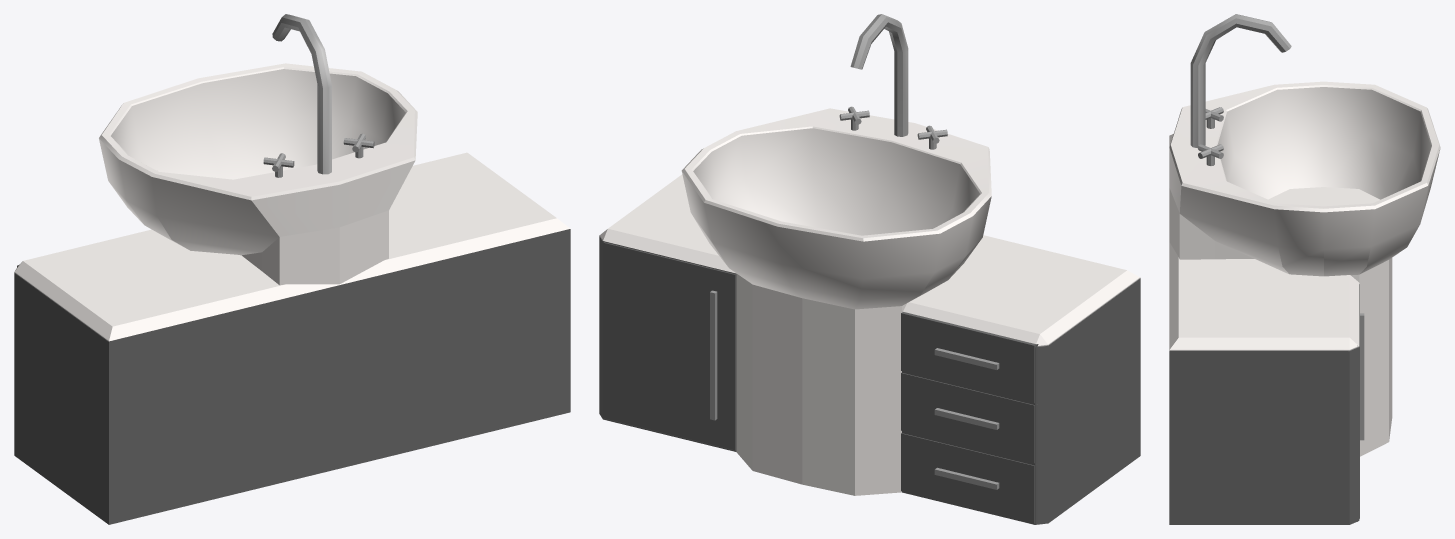
The model's file is Sink.fbx.
The picture shows the model from 3 angles, left to right: view 1: azimuth 30°, elevation 25°; view 2: azimuth 150°, elevation 25°; view 3: azimuth 270°, elevation 25°; orthographic projection. The views are drawn at different scales.
Parts seen in each view (by area): view 1: polySurface88; view 2: polySurface88; view 3: polySurface88.
Part boxes in pixels (bbox=[...]): polySurface88: bbox=[14, 14, 570, 524]; polySurface88: bbox=[599, 14, 1140, 524]; polySurface88: bbox=[1169, 14, 1440, 524].
Bounding box in the file's own units: 173 × 152 × 92.57.
2 materials, 1 textured.
